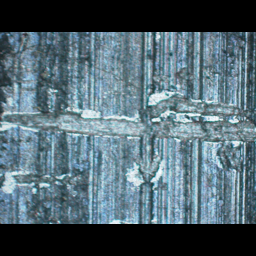d: (0, 88, 256, 145), (124, 154, 172, 195), (0, 172, 84, 193), (212, 141, 244, 174)
